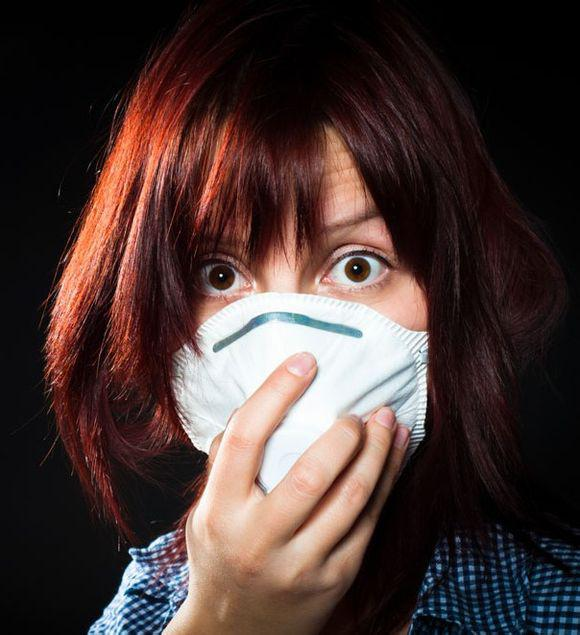OK: (151, 194, 434, 477)
